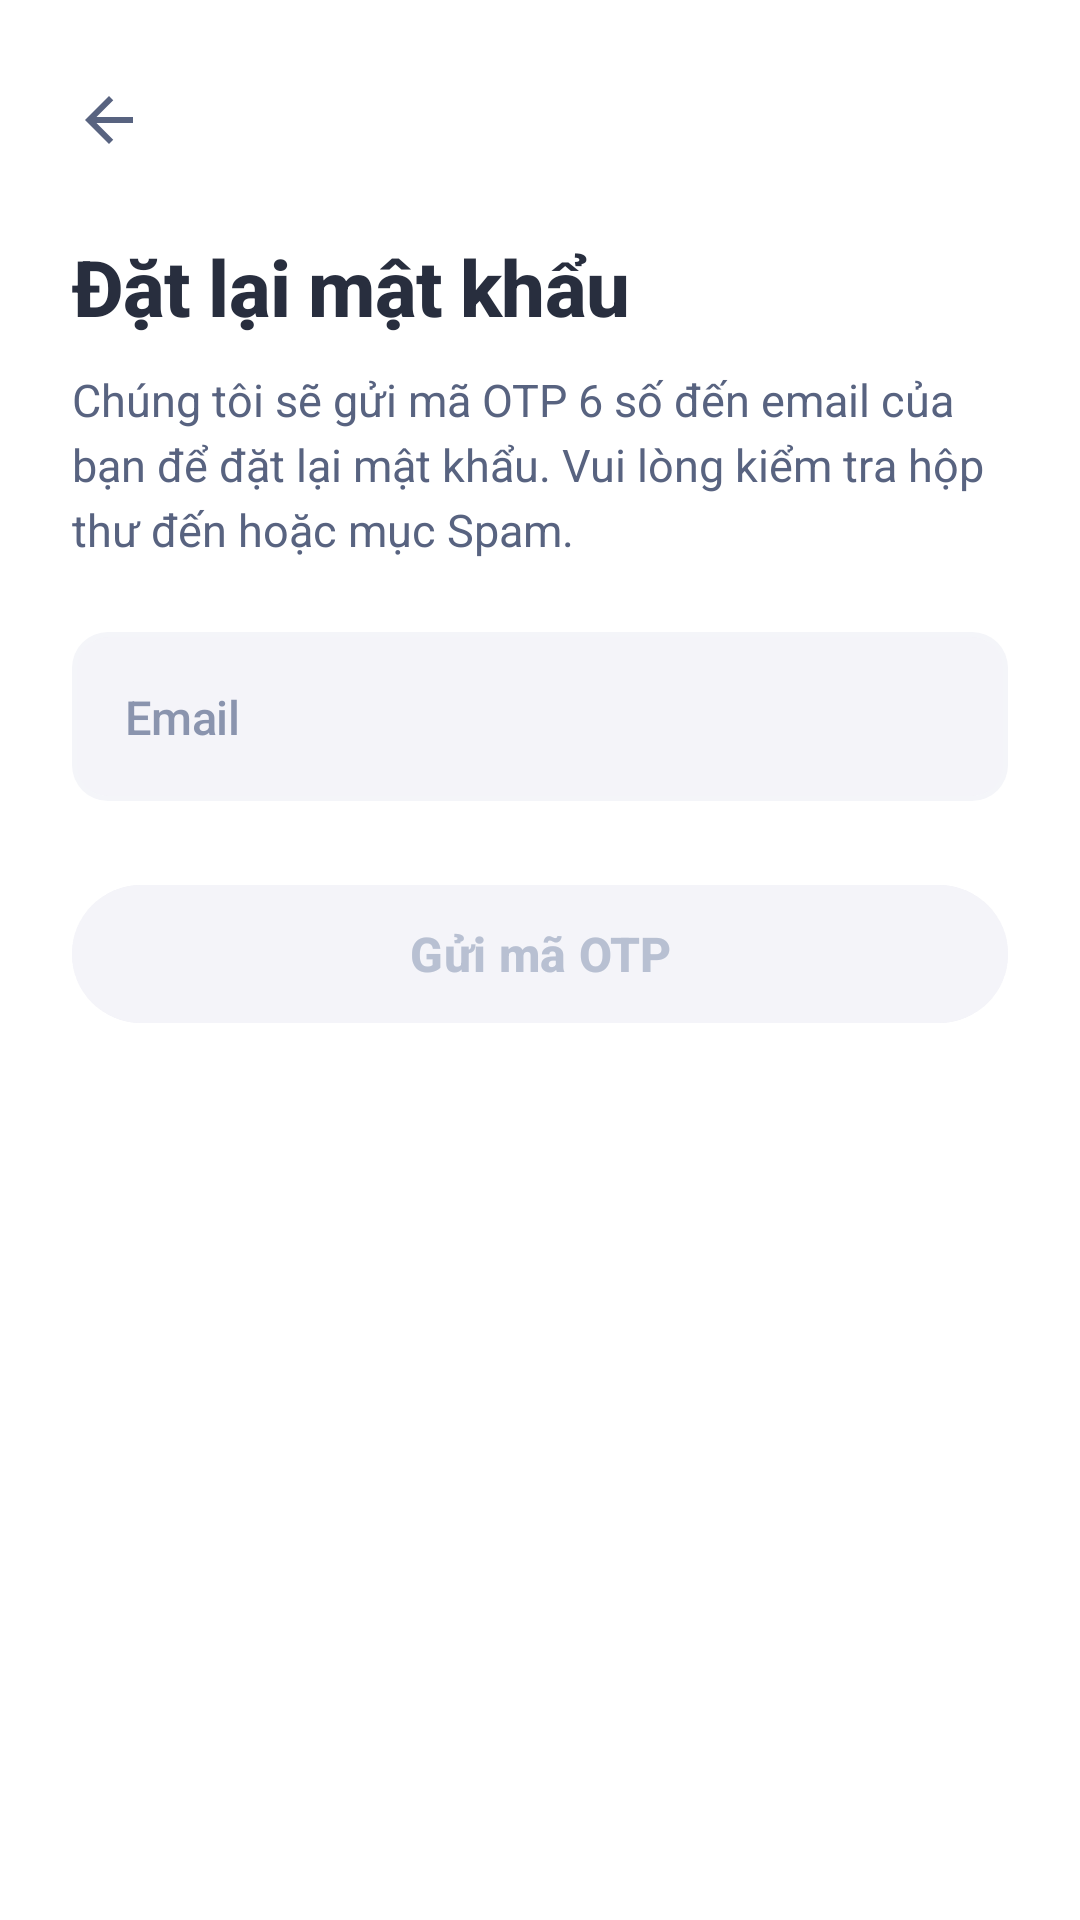

Named icons in this screenshot (1080px×1920px) and their centers, (x,y):
Quay lại: (109,120)
